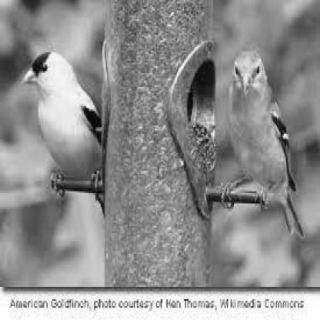other: (23, 44, 104, 182)
